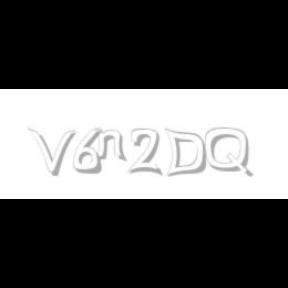2: (127, 128, 161, 176)
6: (74, 128, 102, 176)
D: (164, 128, 207, 178)
Q: (205, 128, 251, 178)
V: (28, 128, 76, 176)
n: (94, 128, 128, 162)
